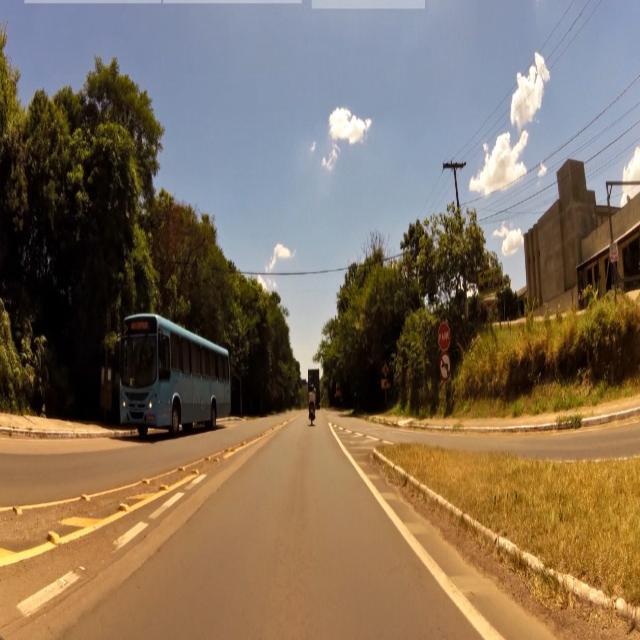R-1: (438, 323, 450, 353)
R-4a: (438, 355, 457, 383)
